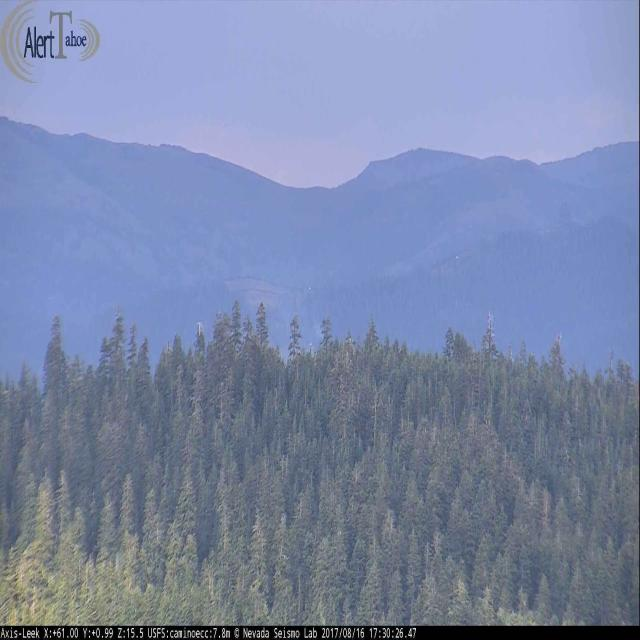smoke: (279, 297, 329, 349)
